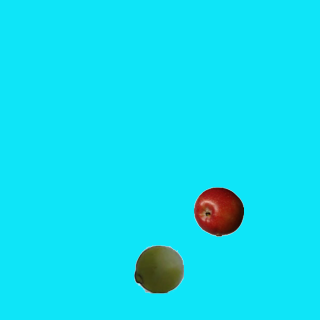Apple Braeburn: (193, 186, 243, 236)
Grape White 4: (133, 243, 183, 293)
